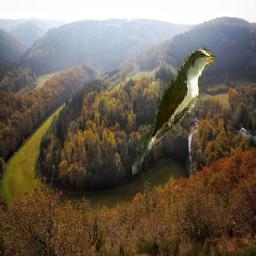Cuckoo: (133, 46, 216, 175)
